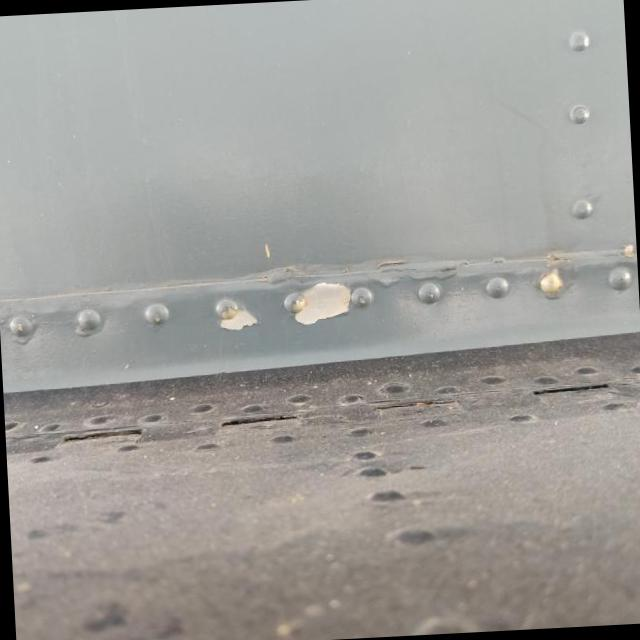Paint-off: (294, 283, 349, 325), (214, 299, 256, 331)
